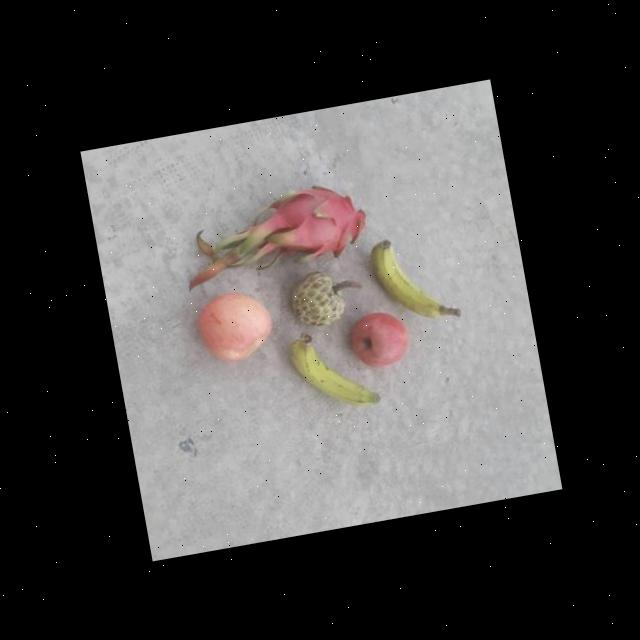Sakya fruit: (280, 264, 350, 336)
apple: (182, 275, 280, 371), (342, 306, 418, 369)
banana: (280, 321, 388, 431), (371, 232, 446, 324)
pitaya: (272, 172, 374, 266)
